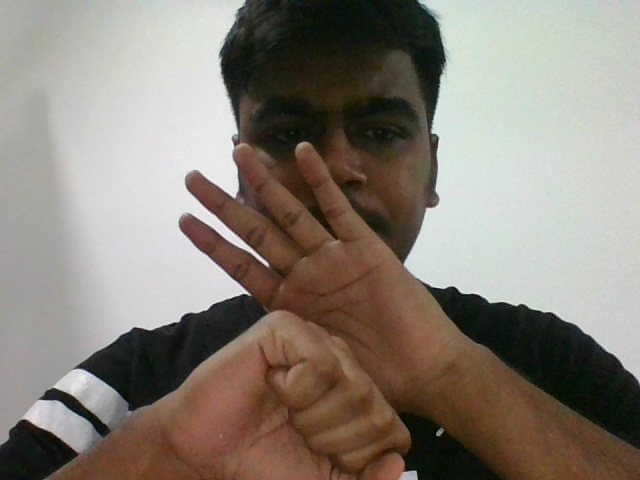coronavirus: (170, 136, 421, 480)
